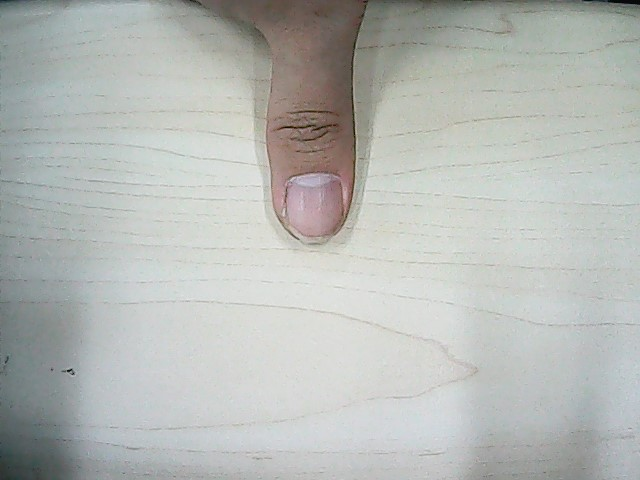nail: (282, 171, 347, 246)
